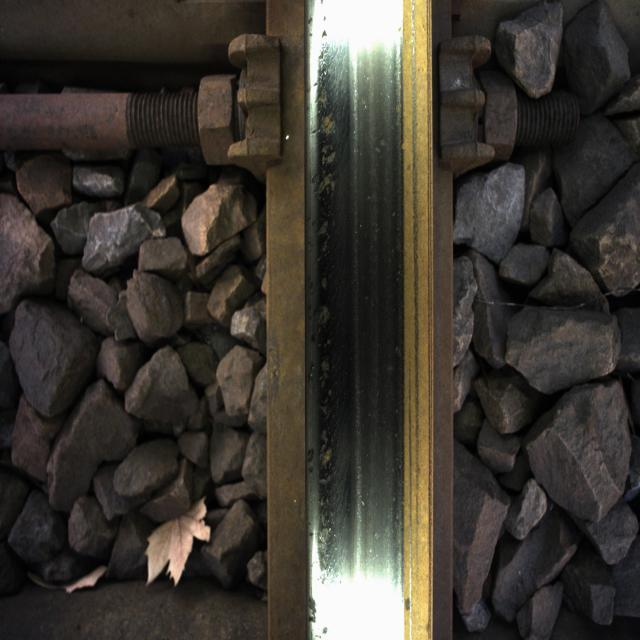crack: (302, 0, 378, 571)
